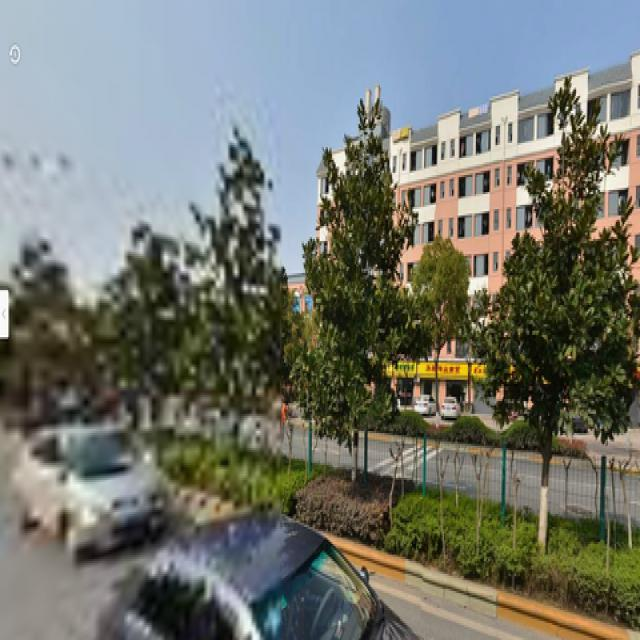magn: (505, 105, 627, 561), (299, 118, 409, 470)
